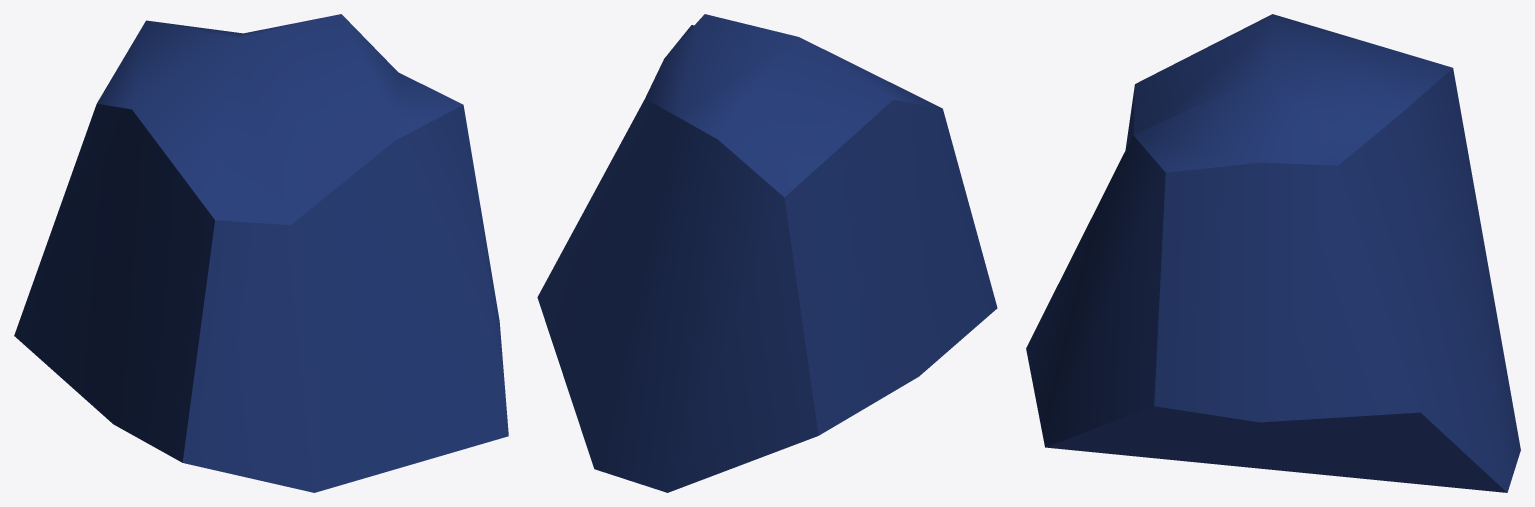
Rendered from Escombro_Piedra_Pieza1_FBX.fbx.
3 renders of one model, left to right at view 1: azimuth 30°, elevation 25°; view 2: azimuth 150°, elevation 25°; view 3: azimuth 270°, elevation 25°, orthographic. The views are drawn at different scales.
Parts seen in each view (by area): view 1: Escombro_Piedra_1; view 2: Escombro_Piedra_1; view 3: Escombro_Piedra_1.
Part boxes in pixels (<box>): Escombro_Piedra_1: <box>14,14,508,492</box>; Escombro_Piedra_1: <box>537,14,997,492</box>; Escombro_Piedra_1: <box>1026,14,1520,492</box>.
Bounding box in the file's own units: 0.5959 × 0.6402 × 0.6853.
